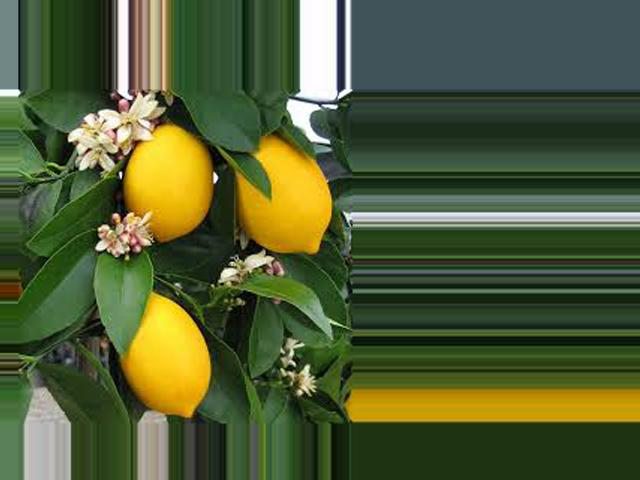lemon: (98, 277, 215, 412)
